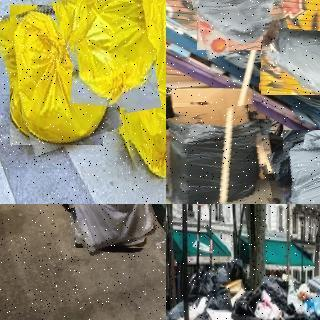Garbage: (0, 0, 113, 150), (111, 0, 166, 180), (166, 107, 268, 204), (72, 0, 160, 108), (192, 0, 287, 55), (65, 204, 155, 253), (259, 29, 320, 96), (275, 121, 320, 204)
